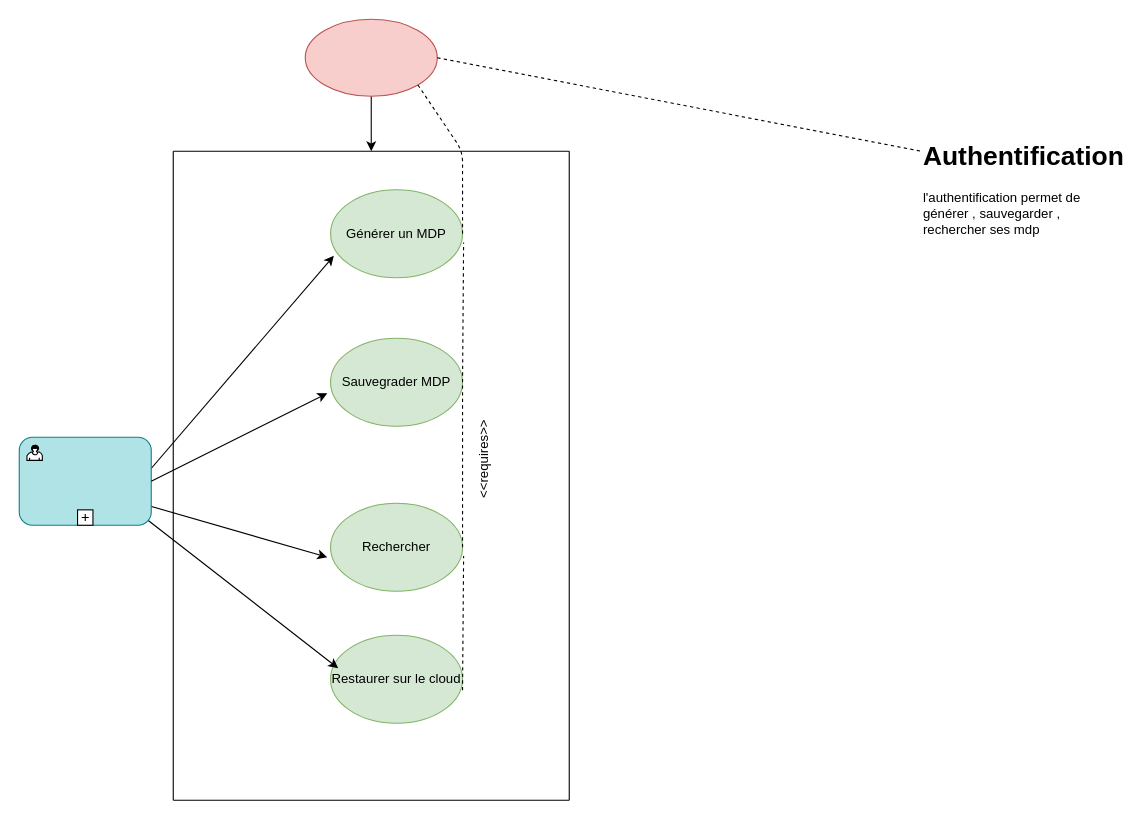
Image size: 1146x821. Some labels were removed from this diagram. Here are the shapes that lost their labels. From the top down, the centre of each, then its label:
At (370,57): "Authentification".
At (84,480): "User".
